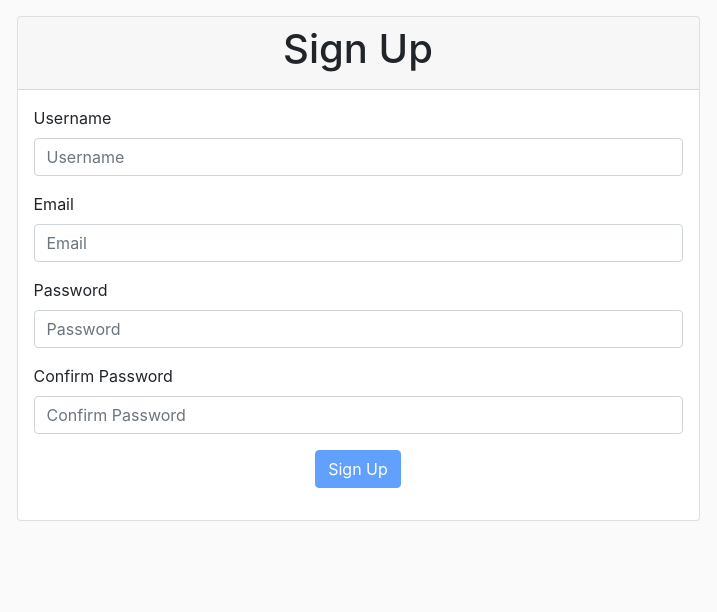
Scenario: SignUp Page › Interactions › displays account activation notification after success sign up request
The width and height of the screenshot is (717, 612).
In the field with test id "username": x=358, y=157 [34,138,682,176], type "user01"
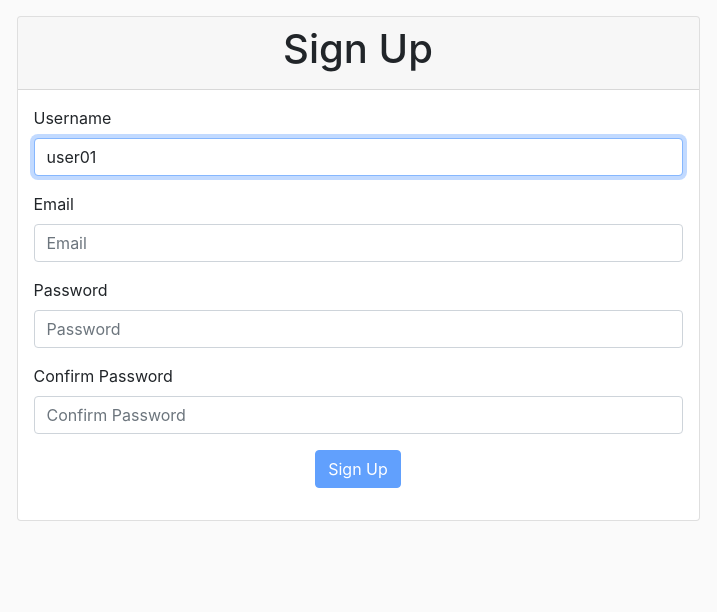
In the password field with test id "password": x=358, y=329 [34,310,682,348], type "!123456Pa"
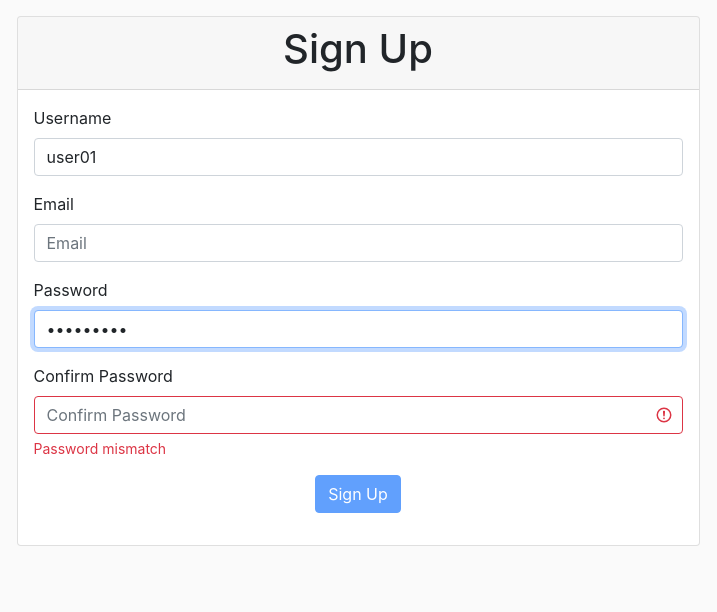
In the password field with test id "confirmPassword": x=358, y=415 [34,396,682,434], type "!123456Pa"
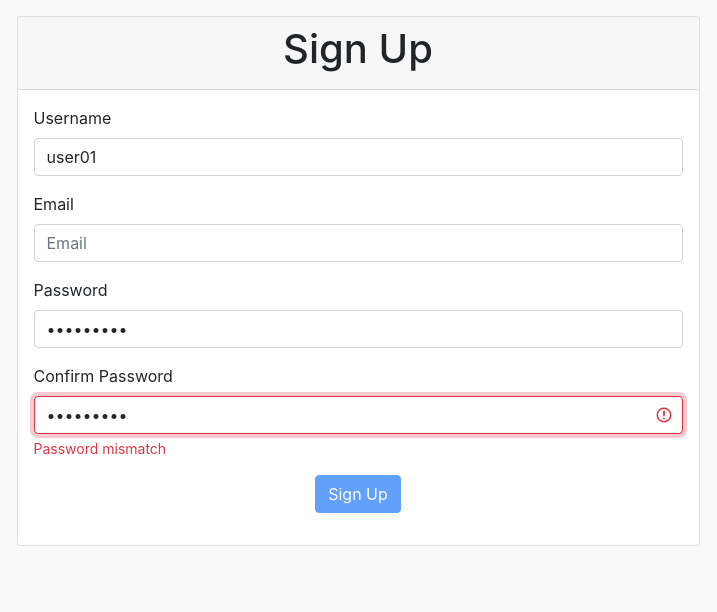
In the field with test id "email": x=358, y=243 [34,224,682,262], type "user01@domain.com"
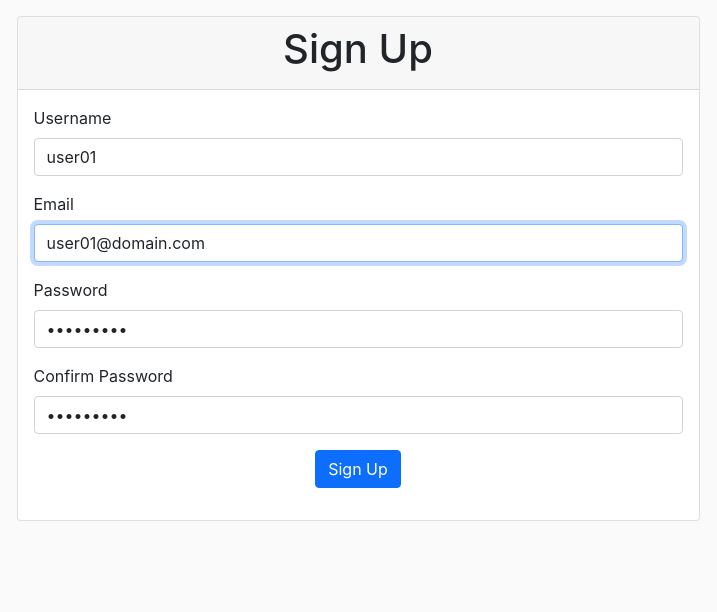
Click the button "Sign Up": x=358, y=469 [315,450,401,488]
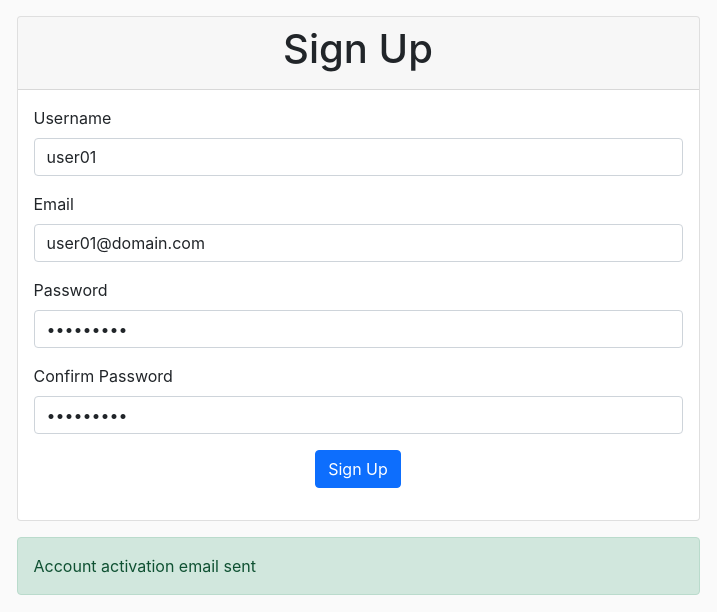
Result: the text "Account activation email sent" is shown at [16,537,700,595]
